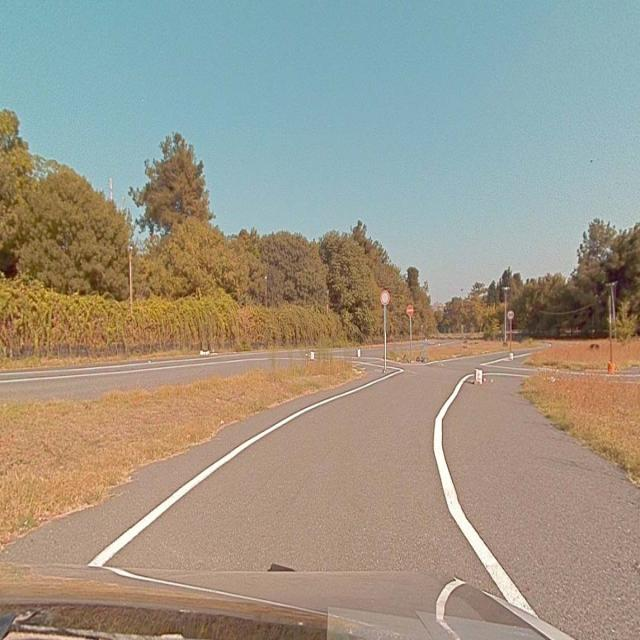girisyok: (408, 305, 413, 315)
